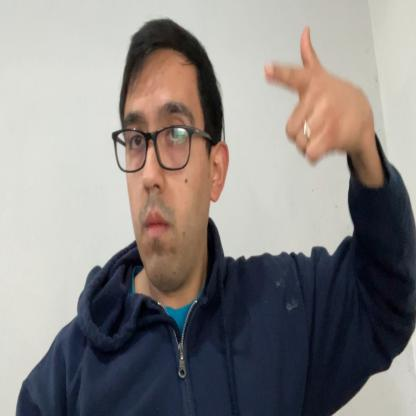G: (264, 22, 363, 165)
